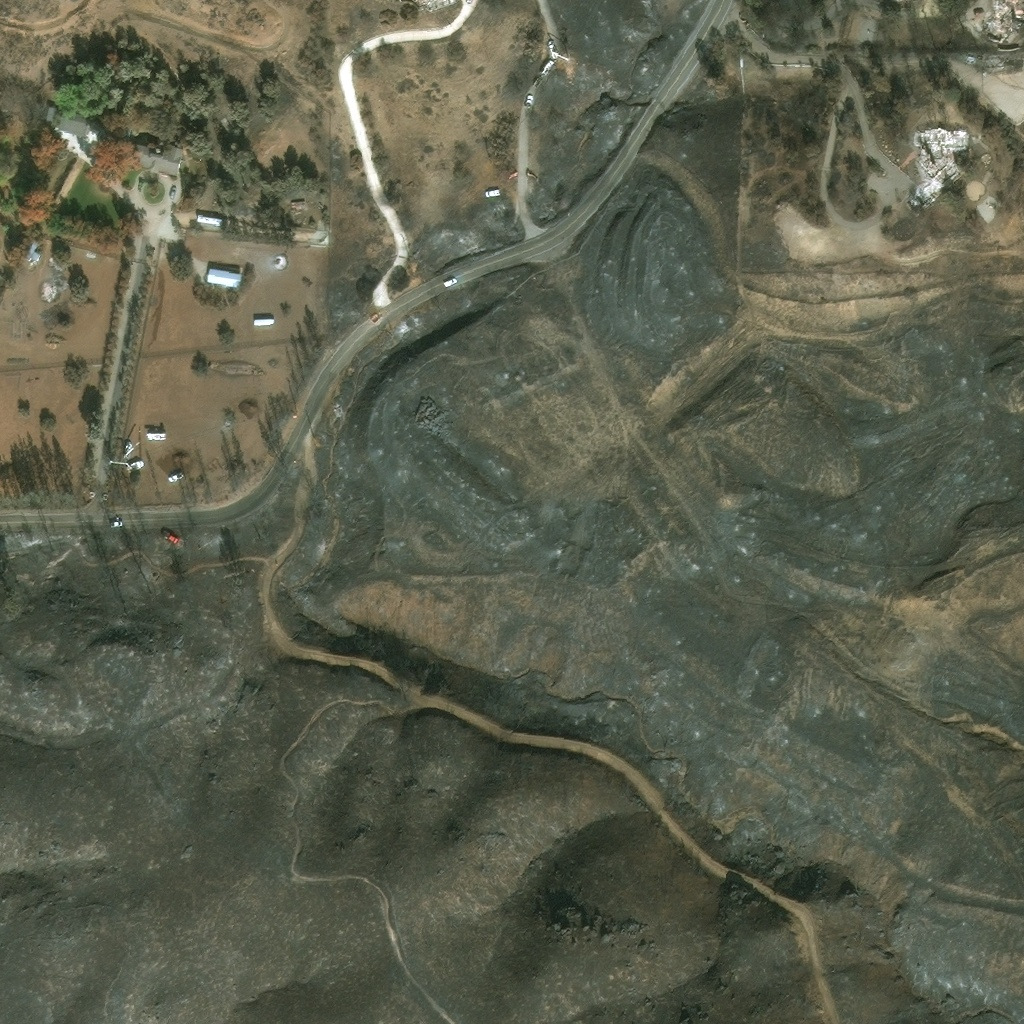0 no-damage: (49, 108, 103, 158), (127, 137, 185, 177), (47, 154, 86, 206), (205, 267, 242, 289), (22, 240, 41, 263), (228, 217, 256, 231), (218, 115, 233, 133), (289, 200, 305, 209)
3 destroyed: (908, 125, 982, 211), (410, 0, 455, 12), (988, 59, 1023, 74), (980, 165, 996, 187), (42, 283, 57, 300)
